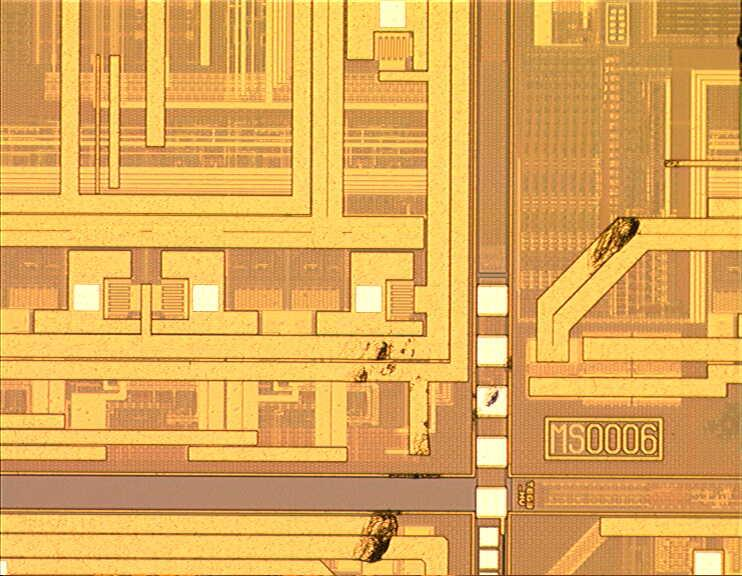SCRATCH: (339, 32, 742, 569)
